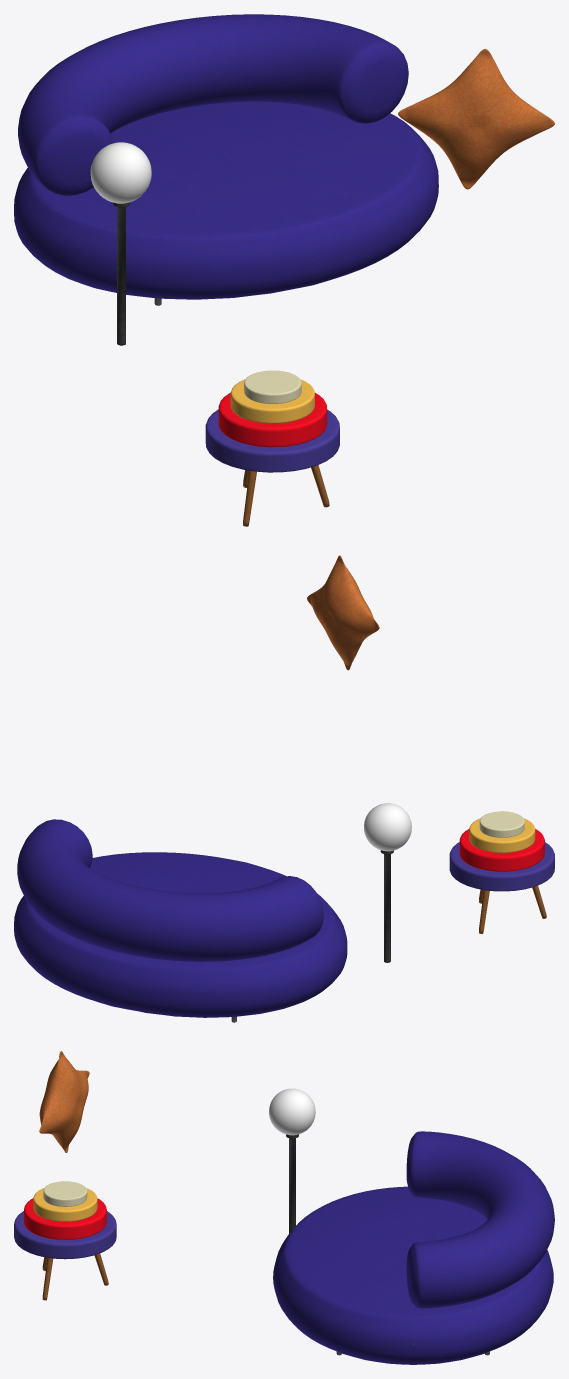
3 renders of one model, top to bottom at view 1: azimuth 30°, elevation 25°; view 2: azimuth 150°, elevation 25°; view 3: azimuth 270°, elevation 25°, orthographic. The views are drawn at different scales.
Parts seen in each view (by area): view 1: Sofa.001, ChairPyramid, Pillow.001, Lamp.001; view 2: Sofa.001, ChairPyramid, Pillow.001, Lamp.001; view 3: Sofa.001, ChairPyramid, Pillow.001, Lamp.001.
Boxes of the visible parts, x1,y1,x2,y2 form: Sofa.001: (14, 14, 438, 305); ChairPyramid: (205, 370, 339, 526); Pillow.001: (398, 48, 554, 189); Lamp.001: (90, 142, 151, 345); Sofa.001: (14, 819, 347, 1022); ChairPyramid: (449, 811, 554, 933); Pillow.001: (307, 555, 379, 670); Lamp.001: (364, 803, 411, 962); Sofa.001: (273, 1131, 554, 1364); ChairPyramid: (14, 1181, 116, 1300); Pillow.001: (39, 1051, 89, 1152); Lamp.001: (269, 1088, 315, 1233).
Size of the model in its own units: 4.84 by 4.38 by 6.89.
Materials: 1 (1 with a texture image).
